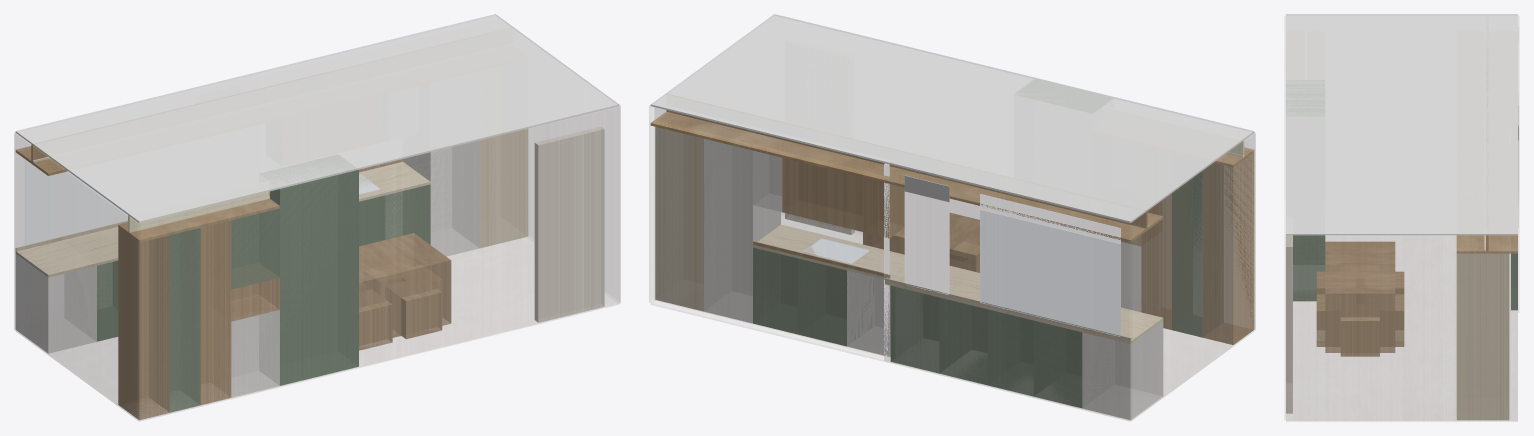
Rendered from cocina.gltf.
3 renders of one model, left to right at view 1: azimuth 30°, elevation 25°; view 2: azimuth 150°, elevation 25°; view 3: azimuth 270°, elevation 25°, orthographic. The views are drawn at different scales.
Visible parts, largest first — view 1: Pared Sur, Lavadora, Pared Oeste, Microondas base, Columna azulejo, Suelo, Mesa comedor, Despensa Sur 2, Lavavajillas, Silla 1, Frigorífico, Vitrina (+16 smaller); view 2: Lavadora, Pared Norte izq, Pared Norte der, Pared Oeste, Ventana pequeña, Mesa comedor, Frigorífico, Encimera izq, Cajones (×2), Cornisa Sur, Lavavajillas, Despensa Sur 2 (+23 smaller); view 3: Lavadora, Pared Este, Suelo, Encimera izq, Silla 1, Microondas base, Cornisa Norte, Columna azulejo, Cornisa Sur, Pared Sur, Silla 3, Silla 5 (+4 smaller).
Part boxes in pixels (x1,y1,x2,y2): Pared Sur: (139, 106, 619, 420); Lavadora: (15, 14, 619, 223); Pared Oeste: (14, 133, 138, 419); Microondas base: (264, 155, 358, 385); Columna azulejo: (534, 126, 604, 322); Suelo: (16, 237, 618, 421); Mesa comedor: (118, 227, 169, 420); Despensa Sur 2: (149, 228, 200, 412); Lavavajillas: (15, 254, 96, 353); Silla 1: (359, 233, 451, 337); Frigorífico: (403, 140, 479, 256); Vitrina: (200, 220, 231, 404); Lavadora: (650, 14, 1254, 223); Pared Norte izq: (884, 164, 1130, 420); Pared Norte der: (655, 107, 888, 356); Pared Oeste: (1131, 133, 1255, 419); Ventana pequeña: (980, 210, 1120, 336); Mesa comedor: (1202, 152, 1254, 344); Frigorífico: (704, 138, 780, 323); Encimera izq: (655, 127, 703, 311); Cajones (×2): (890, 286, 987, 385); Cornisa Sur: (650, 111, 1163, 242); Lavavajillas: (1082, 320, 1163, 420); Despensa Sur 2: (1172, 163, 1222, 337); Lavadora: (1286, 14, 1517, 235); Pared Este: (1286, 235, 1517, 420); Suelo: (1286, 236, 1517, 421); Encimera izq: (1456, 253, 1509, 420); Silla 1: (1325, 241, 1395, 352); Microondas base: (1286, 80, 1325, 301); Cornisa Norte: (1340, 305, 1379, 356); Columna azulejo: (1286, 235, 1292, 413); Cornisa Sur: (1456, 235, 1517, 253); Pared Sur: (1284, 16, 1285, 419); Silla 3: (1316, 294, 1325, 346); Silla 5: (1395, 294, 1404, 346).
Bounding box in the file's own units: 5.98 × 2.37 × 2.69.
